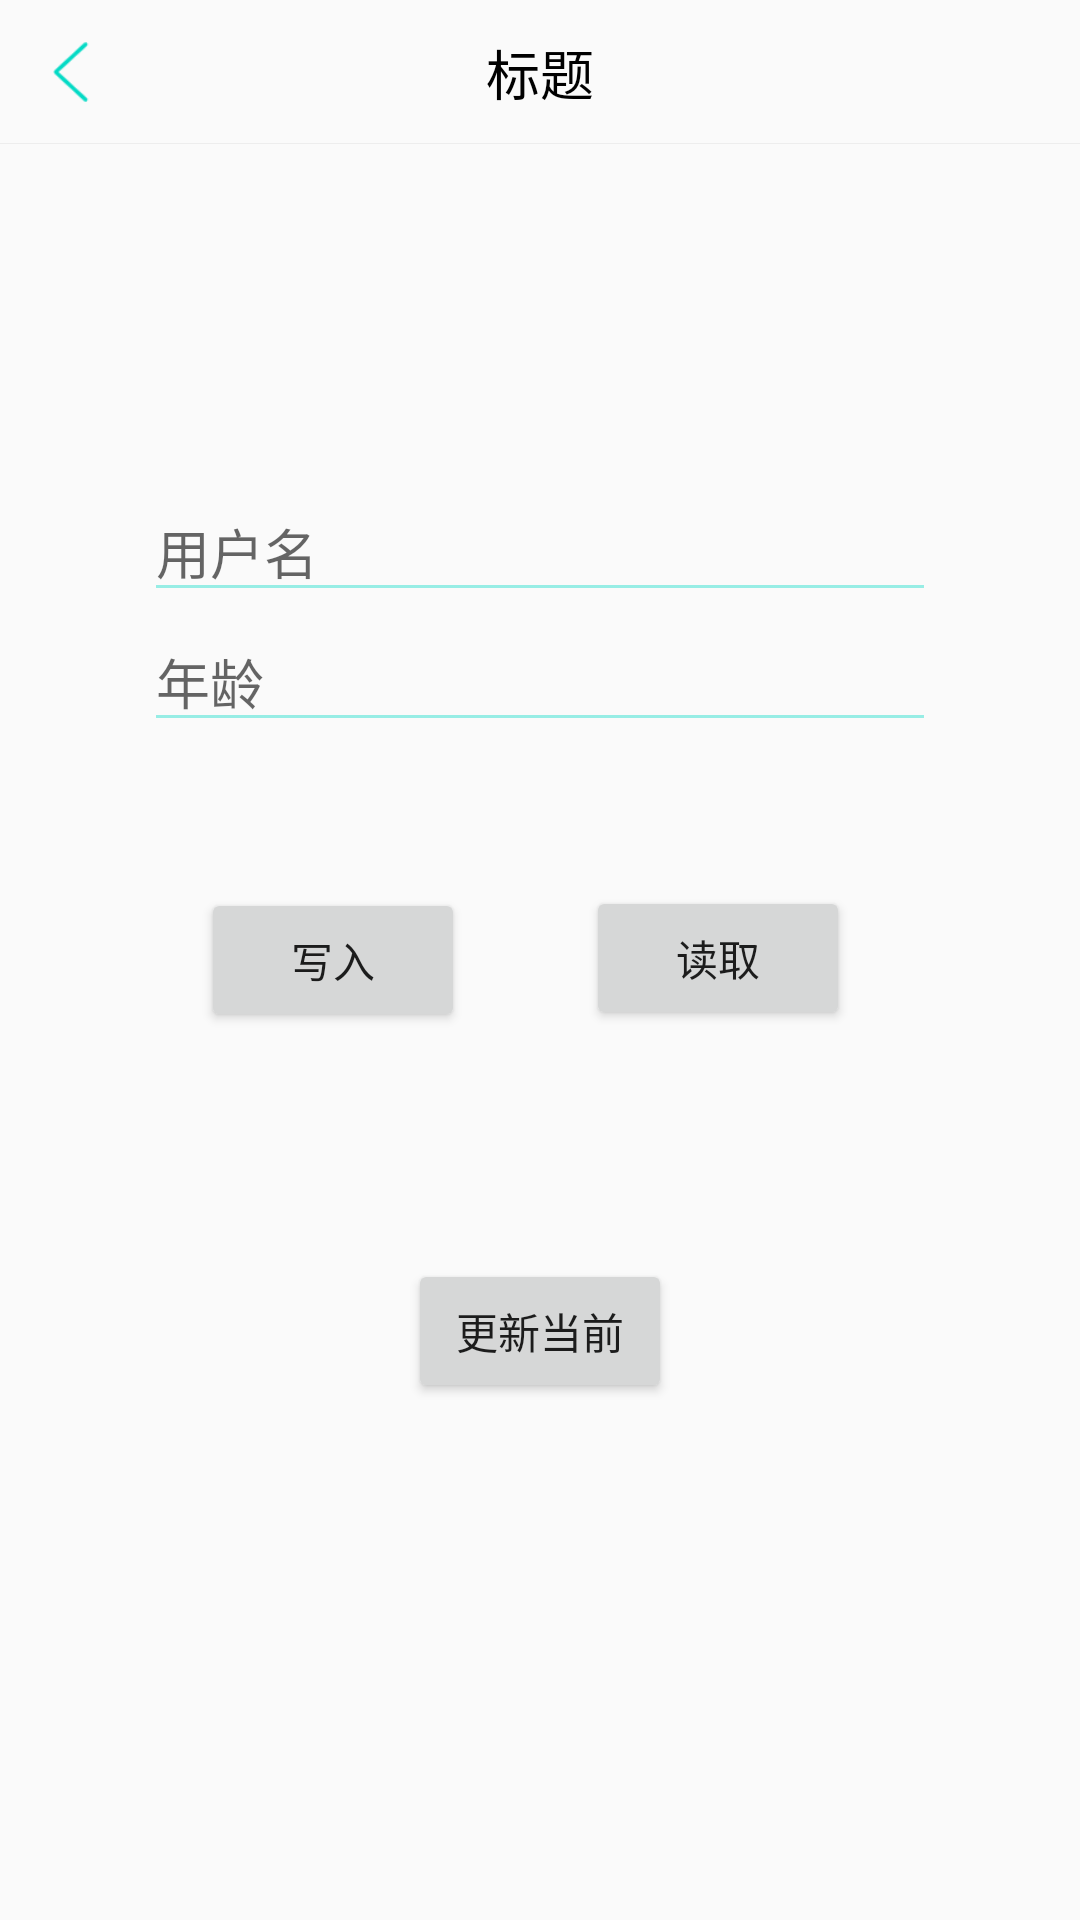

Icon click points for this 1080x1920 phone screenshot, format [x,y]:
back: [70,72]
